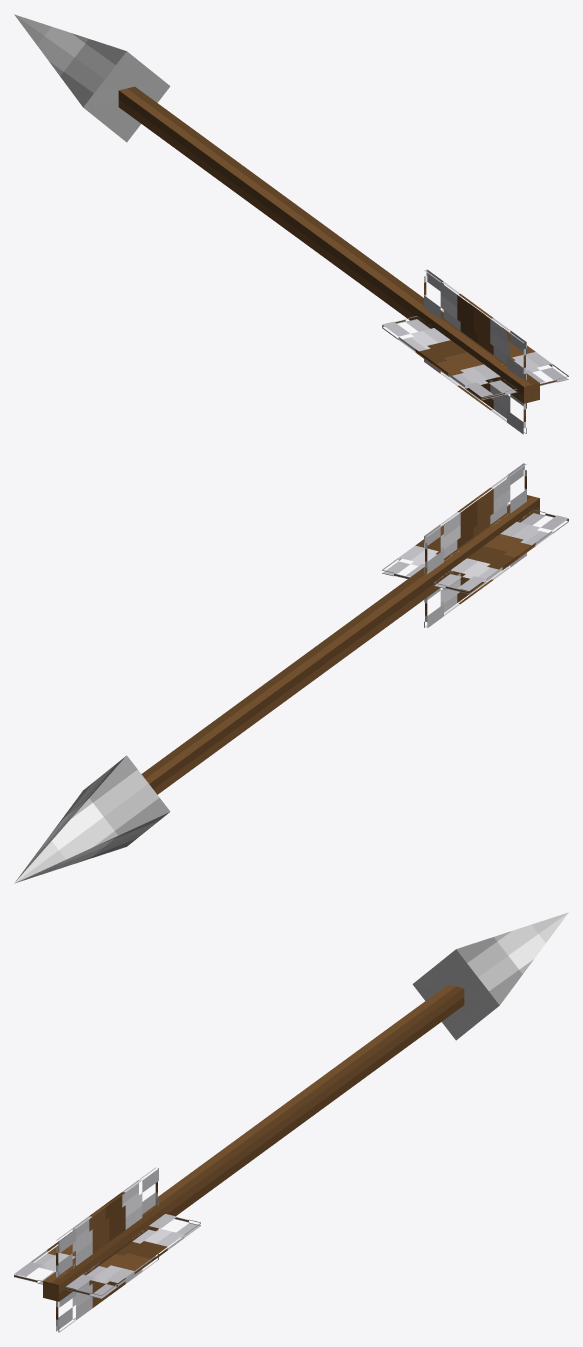
The model's file is x_mobs_arrow.glb.
3 renders of one model, top to bottom at view 1: azimuth 30°, elevation 25°; view 2: azimuth 150°, elevation 25°; view 3: azimuth 330°, elevation 25°, orthographic.
Parts seen in each view (by area): view 1: Arrow; view 2: Arrow; view 3: Arrow.
Part boxes in pixels (box(x1,y1,x2,y2)): Arrow: box(14, 14, 568, 434); Arrow: box(14, 463, 568, 883); Arrow: box(14, 912, 568, 1332).
Bounding box in the file's own units: 0.076 × 0.076 × 0.78.
Materials: 1 (1 with a texture image).
